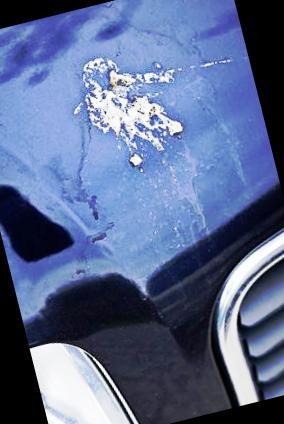Bird Poop: (75, 57, 183, 171)
